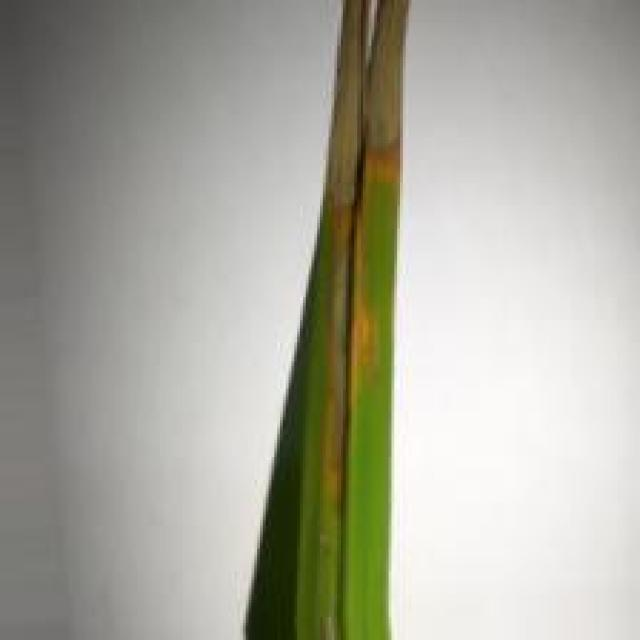Leaf_Scald: (322, 0, 414, 513)
